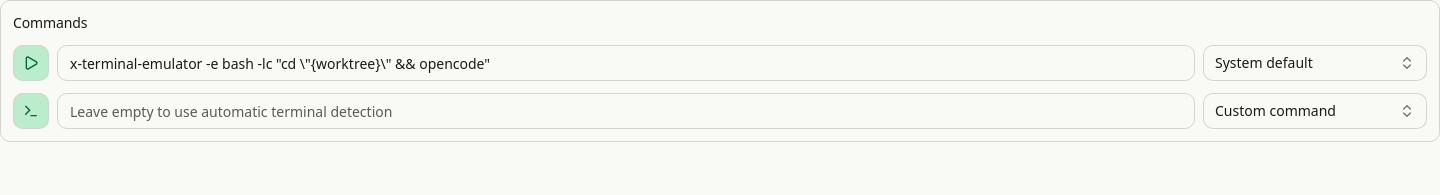
Scenario: CommandsSettingsForm › shows default error when save returns ok:false without error message
Type "changed" into the field with id "open-terminal-at-worktree-command" at (626, 111), box [57,93,1195,129]
Wait 500 ms
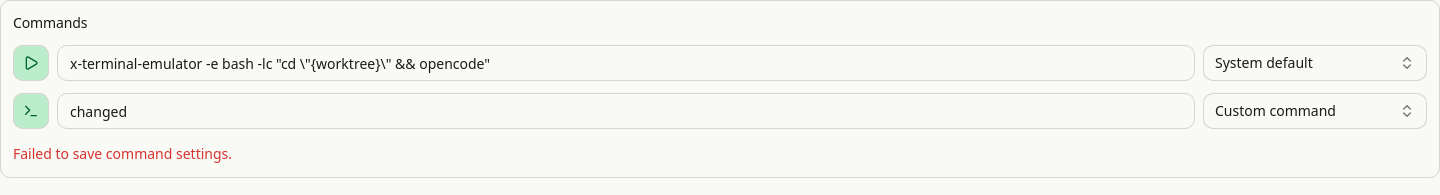
Expected: the text "Failed to save command settings." is shown, [13,144,232,164]
